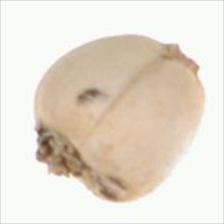L3: (146, 35, 201, 82)
L4: (33, 32, 205, 203)
